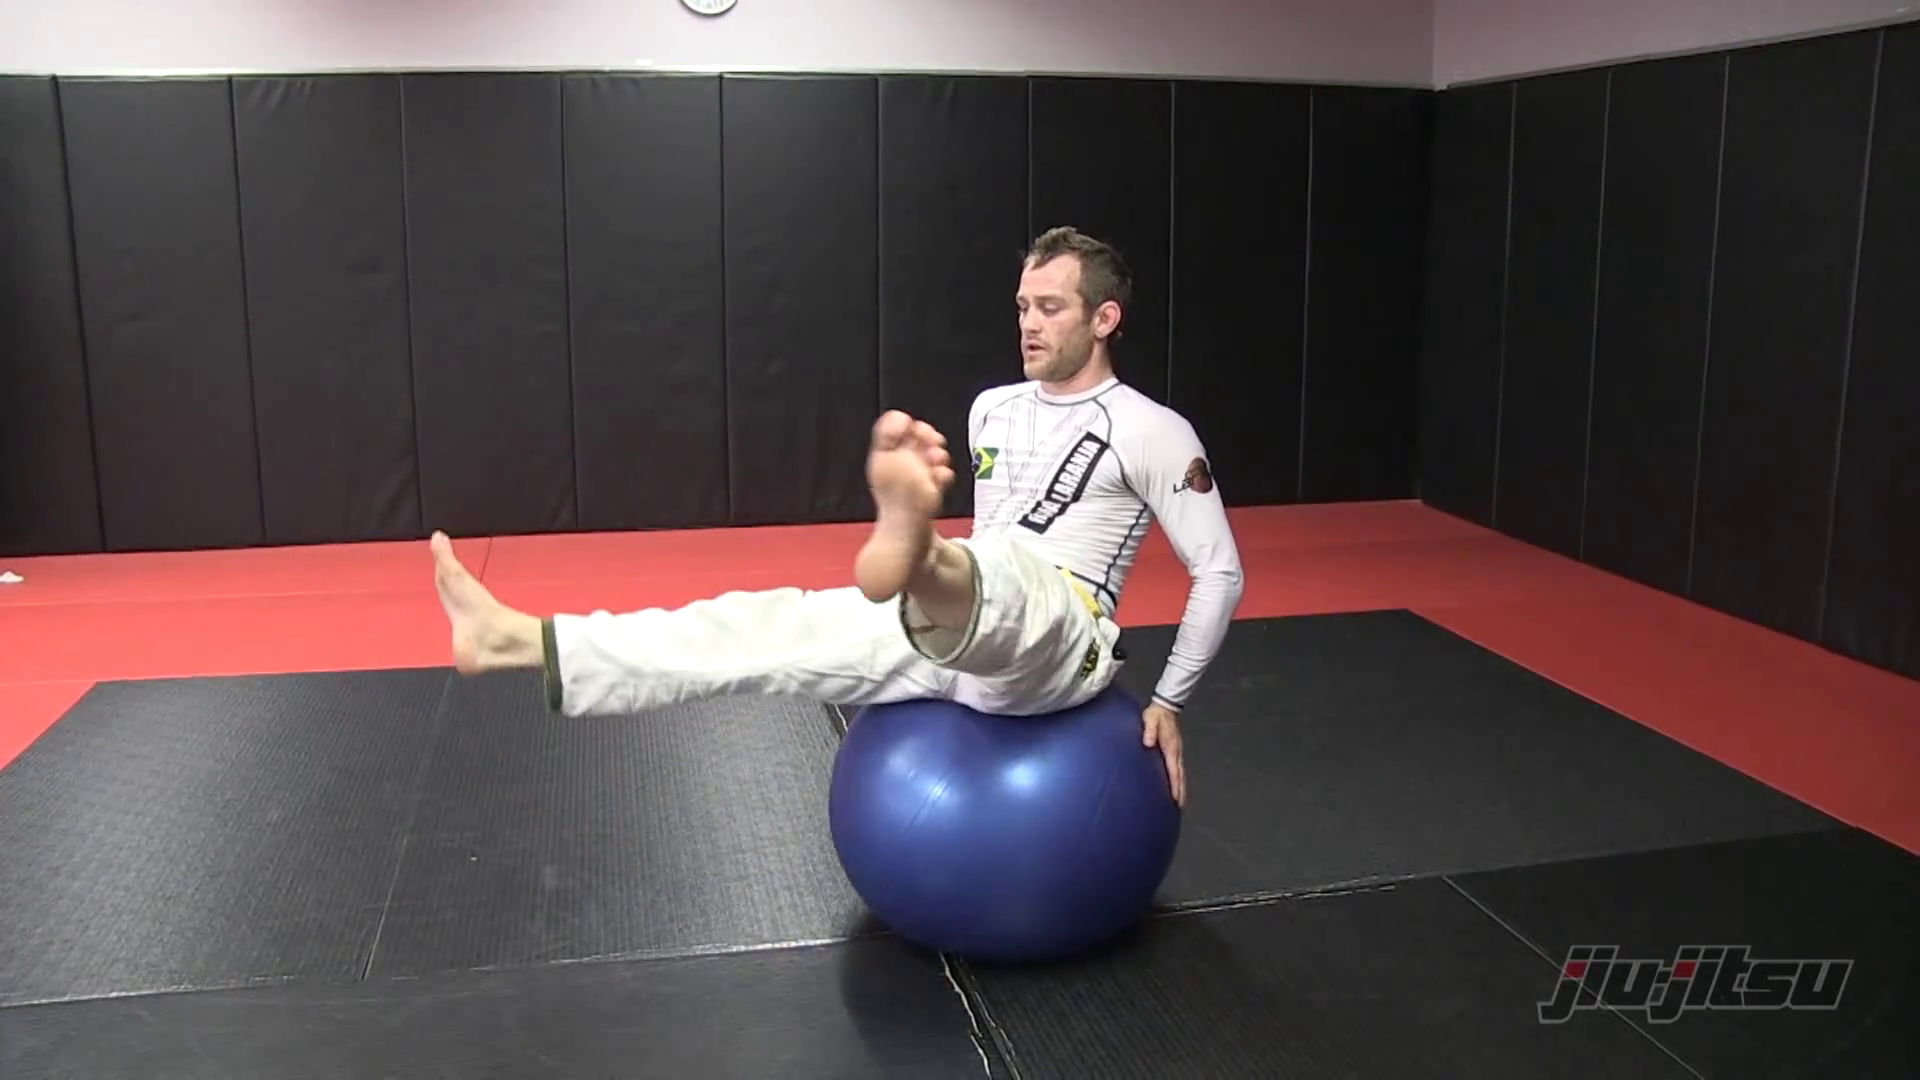yogaball: (814, 673, 1197, 976)
